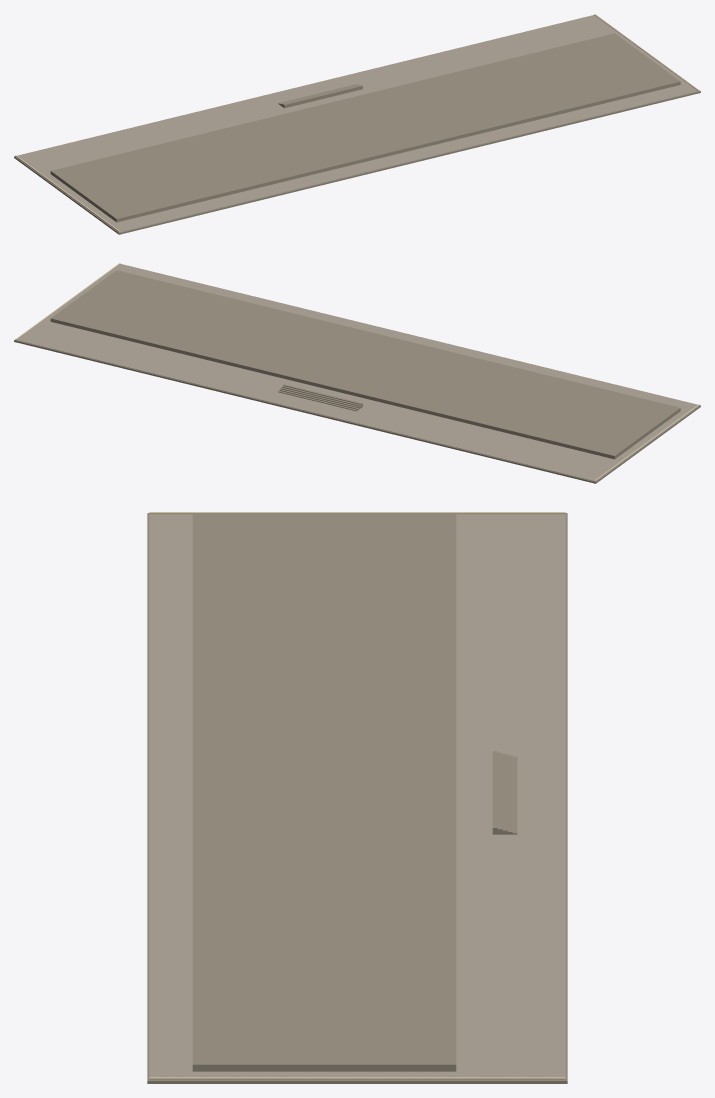
The model's file is KOL_T1_WRITERS__00_Foundation.fbx.
3 views of the same model, one above another, from view 1: azimuth 30°, elevation 25°; view 2: azimuth 150°, elevation 25°; view 3: azimuth 270°, elevation 25° (orthographic). The views are drawn at different scales.
Visible parts, largest first — view 1: KOL_T1_WRITERS__00_Foundation__KOL_T1_HeritageStone, KOL_T1_WRITERS__00_Foundation__KOL_T1_HeritagePaving, KOL_T1_WRITERS__00_Foundation__KOL_T1_HeritageCream; view 2: KOL_T1_WRITERS__00_Foundation__KOL_T1_HeritageStone, KOL_T1_WRITERS__00_Foundation__KOL_T1_HeritagePaving, KOL_T1_WRITERS__00_Foundation__KOL_T1_HeritageCream; view 3: KOL_T1_WRITERS__00_Foundation__KOL_T1_HeritageStone, KOL_T1_WRITERS__00_Foundation__KOL_T1_HeritagePaving, KOL_T1_WRITERS__00_Foundation__KOL_T1_HeritageCream.
Part boxes in pixels (left/top/right/bottom): KOL_T1_WRITERS__00_Foundation__KOL_T1_HeritageStone: left=14, top=15, right=700, bottom=234; KOL_T1_WRITERS__00_Foundation__KOL_T1_HeritagePaving: left=15, top=15, right=699, bottom=232; KOL_T1_WRITERS__00_Foundation__KOL_T1_HeritageCream: left=15, top=14, right=699, bottom=232; KOL_T1_WRITERS__00_Foundation__KOL_T1_HeritageStone: left=14, top=264, right=700, bottom=483; KOL_T1_WRITERS__00_Foundation__KOL_T1_HeritagePaving: left=15, top=264, right=699, bottom=481; KOL_T1_WRITERS__00_Foundation__KOL_T1_HeritageCream: left=15, top=263, right=699, bottom=481; KOL_T1_WRITERS__00_Foundation__KOL_T1_HeritageStone: left=147, top=513, right=567, bottom=1083; KOL_T1_WRITERS__00_Foundation__KOL_T1_HeritagePaving: left=149, top=514, right=565, bottom=1079; KOL_T1_WRITERS__00_Foundation__KOL_T1_HeritageCream: left=149, top=512, right=565, bottom=1079.
Size of the model in its own units: 326 by 2.8 by 102.
